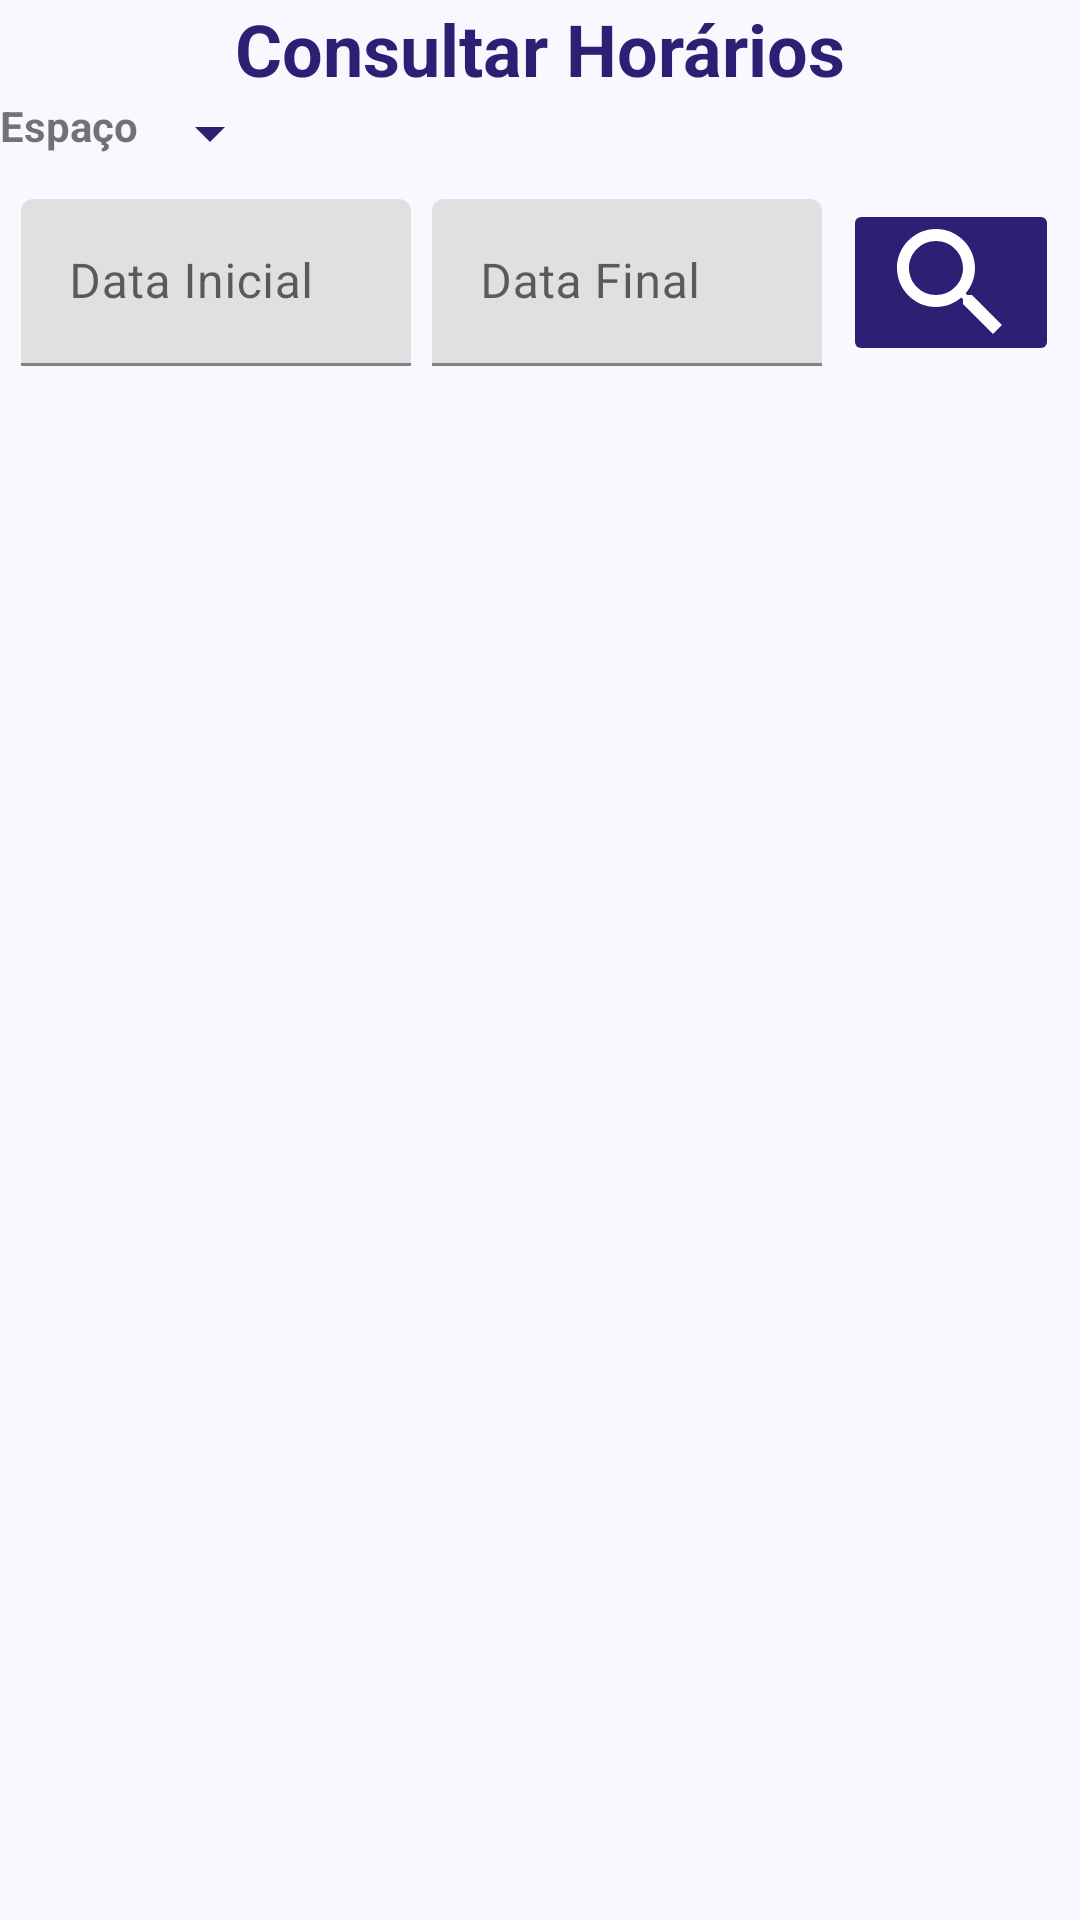

Where to tap for icons on this 1080px×1920px app screen, as (x=x, y=y):
search: (x=951, y=282)
